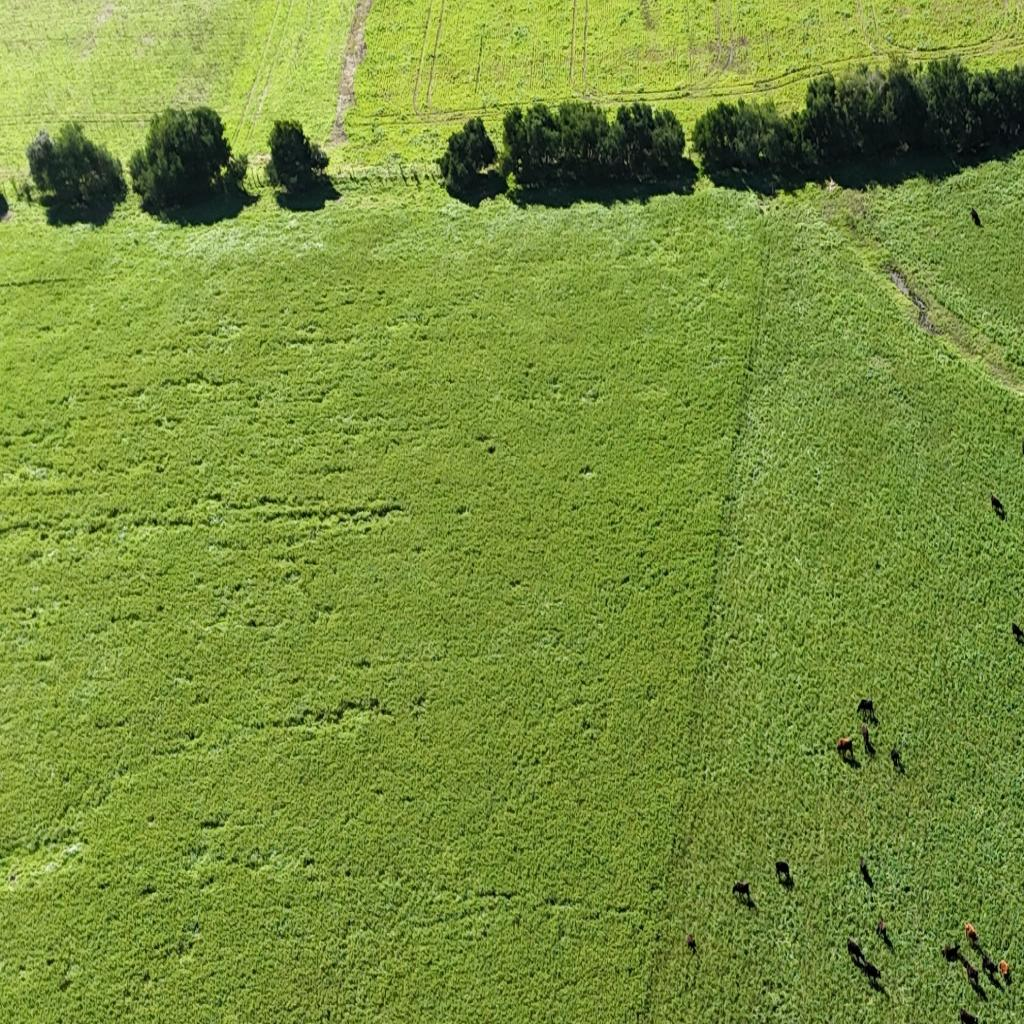cow: (962, 957, 985, 993), (847, 937, 866, 965), (982, 951, 1000, 980), (857, 698, 877, 722), (836, 734, 854, 760), (732, 879, 753, 900), (860, 857, 873, 888), (775, 858, 791, 883), (941, 943, 960, 963), (739, 889, 757, 910), (866, 959, 882, 982), (890, 745, 904, 771), (991, 494, 1006, 518), (959, 1008, 980, 1024), (964, 920, 978, 940), (864, 733, 876, 755), (999, 960, 1011, 981), (685, 931, 697, 952), (877, 916, 887, 938), (1010, 416, 1019, 440), (971, 206, 981, 226), (1016, 621, 1024, 646), (862, 723, 870, 740), (860, 854, 868, 870)
